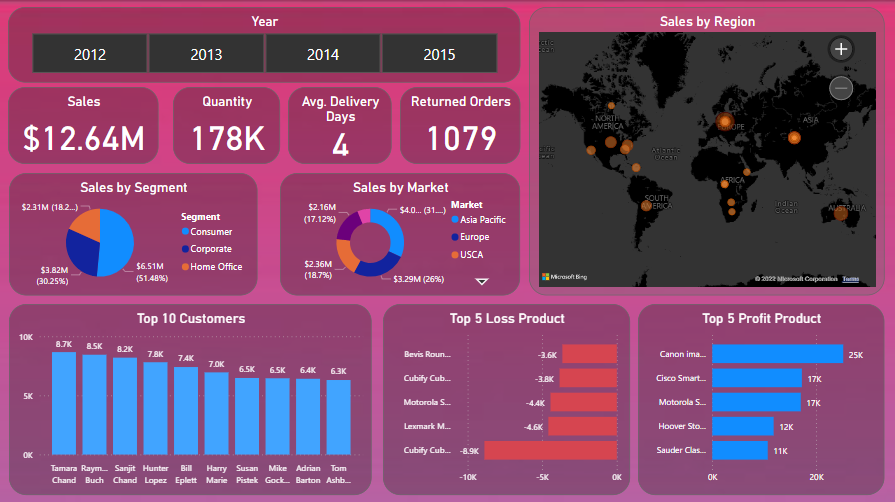

What the dashboard file says about the page in this screenshot:
{"tool":"powerbi","page":{"name":"Page 1","canvas":[1280,720],"ordinal":0},"visuals":[{"type":"card","title":"Avg. Delivery Days","fields":{"Values":["Orders.Dlivery  Days"]},"box":[411.7,125,148.3,110],"z":0},{"type":"slicer","title":"Year","fields":{"Values":["Orders.Year"]},"box":[11.7,11.7,731.7,108.3],"z":1000},{"type":"map","title":"Sales by Region","fields":{"Size":["Orders.Sales"],"Category":["Orders.Region"]},"box":[755,11.7,508.3,411.7],"z":2000},{"type":"pieChart","title":"Sales by Segment","fields":{"Category":["Orders.Segment"],"Y":["Orders.Sales"]},"box":[13.3,248.3,355,175],"z":3000},{"type":"card","title":"Sales","fields":{"Values":["Orders.Sales"]},"box":[11.7,125,215,110],"z":4000},{"type":"card","title":"Quantity","fields":{"Values":["Orders.Quantity"]},"box":[246.7,125,153.3,110],"z":5000},{"type":"card","title":"Returned Orders","fields":{"Values":["Returns.Returned"]},"box":[571.7,125,171.7,110],"z":6000},{"type":"clusteredBarChart","title":"Top 5 Profit Product","fields":{"Category":["Orders.Product Name"],"Y":["Orders.Profit"]},"box":[911.7,435,351.7,273.3],"z":7000},{"type":"clusteredBarChart","title":"Top 5 Loss Product","fields":{"Category":["Orders.Product Name"],"Y":["Orders.Profit"]},"box":[546.7,435,353.3,273.3],"z":8000},{"type":"donutChart","title":"Sales by Market","fields":{"Y":["Orders.Sales"],"Category":["Orders.Market"]},"box":[400,248.3,343.3,175],"z":9000},{"type":"clusteredColumnChart","title":"Top 10 Customers","fields":{"Category":["Orders.Customer Name"],"Y":["Orders.Profit"]},"box":[13.3,435,518.3,273.3],"z":9001}]}

Visuals, with their boxes in screenshot pixels (x1, y1, x2, y2), scaled from the page's 1280x720 canvas onto the 895x502 screenshot:
"Avg. Delivery Days" card: [left=288, top=87, right=392, bottom=164]
"Year" slicer: [left=8, top=8, right=520, bottom=84]
"Sales by Region" map: [left=528, top=8, right=883, bottom=295]
"Sales by Segment" pieChart: [left=9, top=173, right=258, bottom=295]
"Sales" card: [left=8, top=87, right=159, bottom=164]
"Quantity" card: [left=172, top=87, right=280, bottom=164]
"Returned Orders" card: [left=400, top=87, right=520, bottom=164]
"Top 5 Profit Product" clusteredBarChart: [left=637, top=303, right=883, bottom=494]
"Top 5 Loss Product" clusteredBarChart: [left=382, top=303, right=629, bottom=494]
"Sales by Market" donutChart: [left=280, top=173, right=520, bottom=295]
"Top 10 Customers" clusteredColumnChart: [left=9, top=303, right=372, bottom=494]
